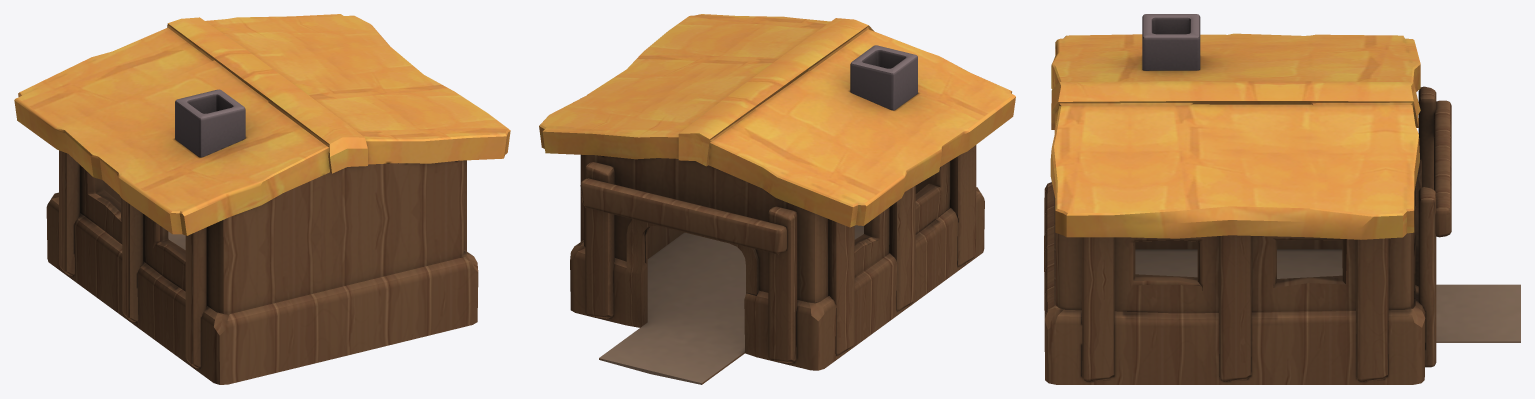
The model's file is TownHallLV1.fbx.
3 views of the same model, side by side, from view 1: azimuth 30°, elevation 25°; view 2: azimuth 150°, elevation 25°; view 3: azimuth 270°, elevation 25° (orthographic). The views are drawn at different scales.
Visible parts, largest first — view 1: TownHall_LV1; view 2: TownHall_LV1; view 3: TownHall_LV1.
Part boxes in pixels (left/top/right/bottom): TownHall_LV1: left=14, top=14, right=510, bottom=384; TownHall_LV1: left=539, top=14, right=1015, bottom=384; TownHall_LV1: left=1044, top=14, right=1520, bottom=384.
Size of the model in its own units: 612 by 389 by 676.
1 material, 1 textured.
